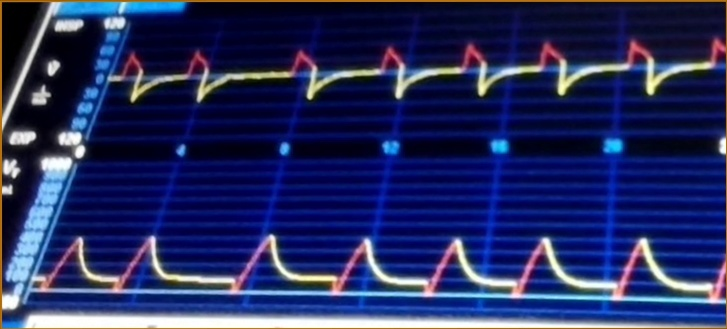Flow: (120, 27, 725, 128)
Leakage Volume: (55, 202, 726, 310)
